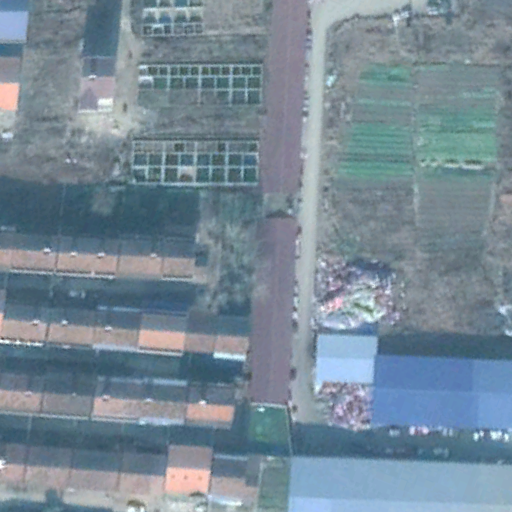msw: (309, 255, 398, 331), (321, 379, 370, 433)
